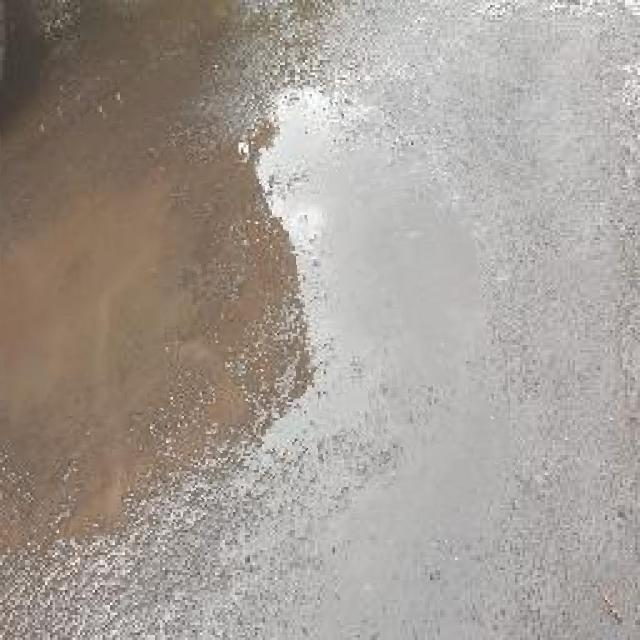puddle: (1, 83, 509, 533)
